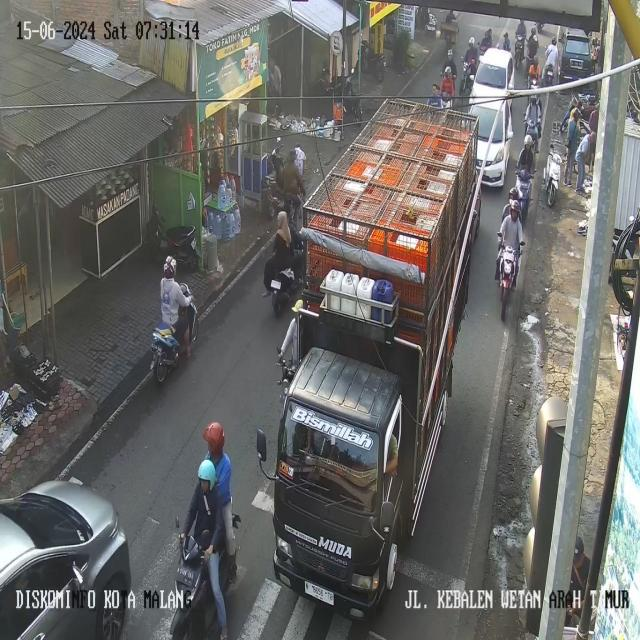Helmet: (202, 422, 224, 457), (198, 459, 215, 487), (163, 256, 177, 278), (292, 299, 303, 313), (510, 199, 520, 212), (509, 187, 519, 200), (524, 134, 532, 146), (588, 95, 596, 105), (289, 149, 296, 160), (468, 37, 475, 46), (529, 95, 536, 103), (533, 56, 538, 66), (551, 37, 557, 45), (447, 49, 453, 57), (445, 66, 451, 73), (485, 28, 491, 34), (531, 27, 536, 34), (503, 32, 507, 38), (520, 18, 523, 22)
Number Plate: (305, 581, 333, 604), (271, 280, 280, 289), (191, 238, 195, 249)
Rearview Mirror: (380, 501, 394, 534), (256, 428, 266, 461), (72, 562, 83, 586), (175, 516, 180, 529), (276, 137, 282, 143), (520, 241, 525, 245), (497, 232, 501, 236)
